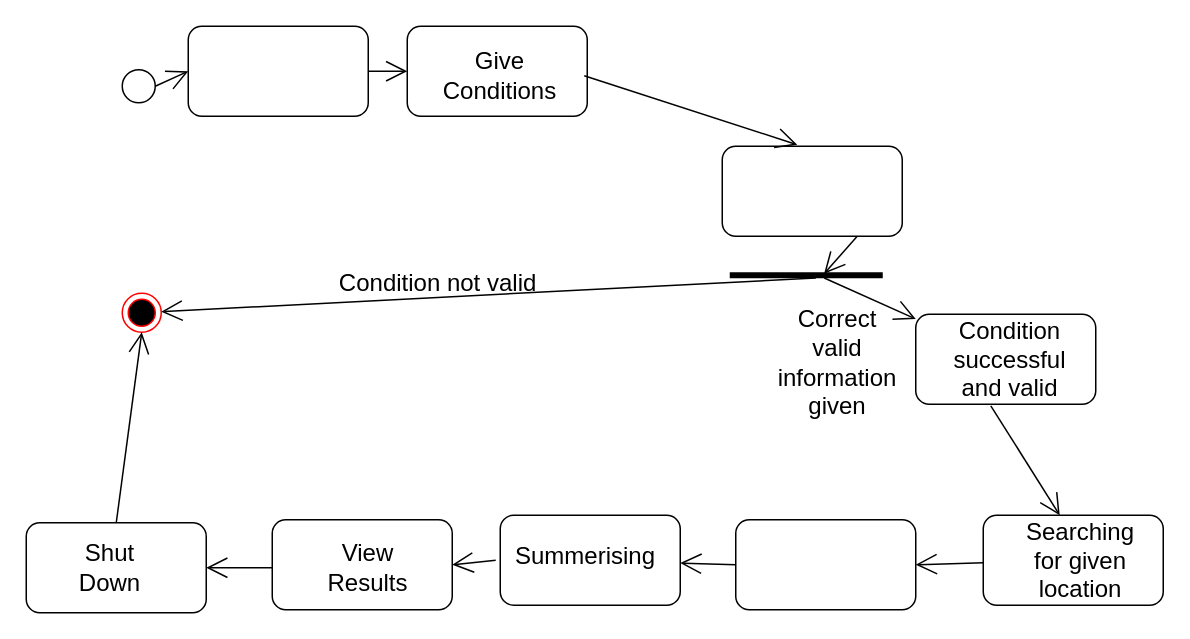
Image size: 1190x639. Some labels were removed from this diagram. The shapes that lost their labels are listed below. From the top down, each one's centre as x and y in pixels, then its label:
At pixel 277 70: "Customer Login".
At pixel 811 190: "Searching for given conditions".
At pixel 825 564: "Search for given day,time".
